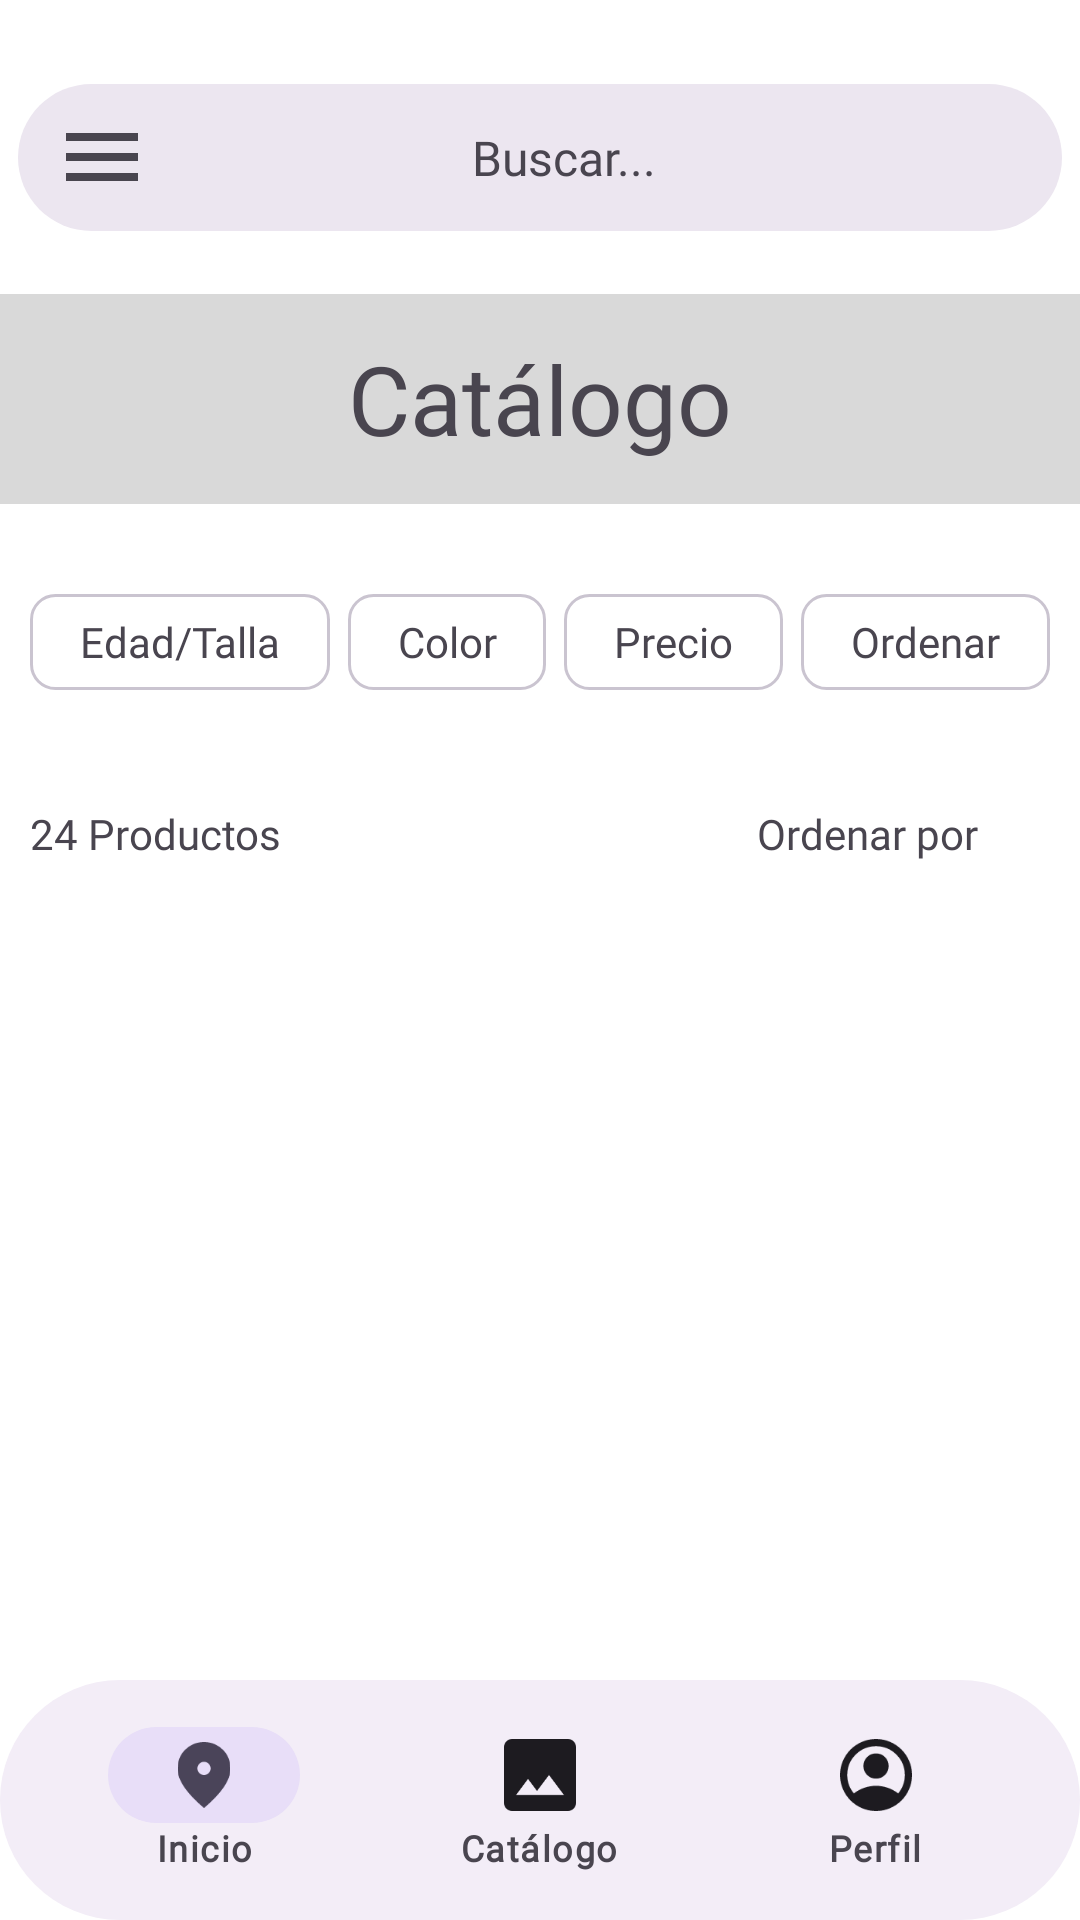

Icon bounding boxes for this 1080*1920 phone screenshot, format detection(x1, y1, x2, y2):
Menú: detection(66, 133, 138, 181)
